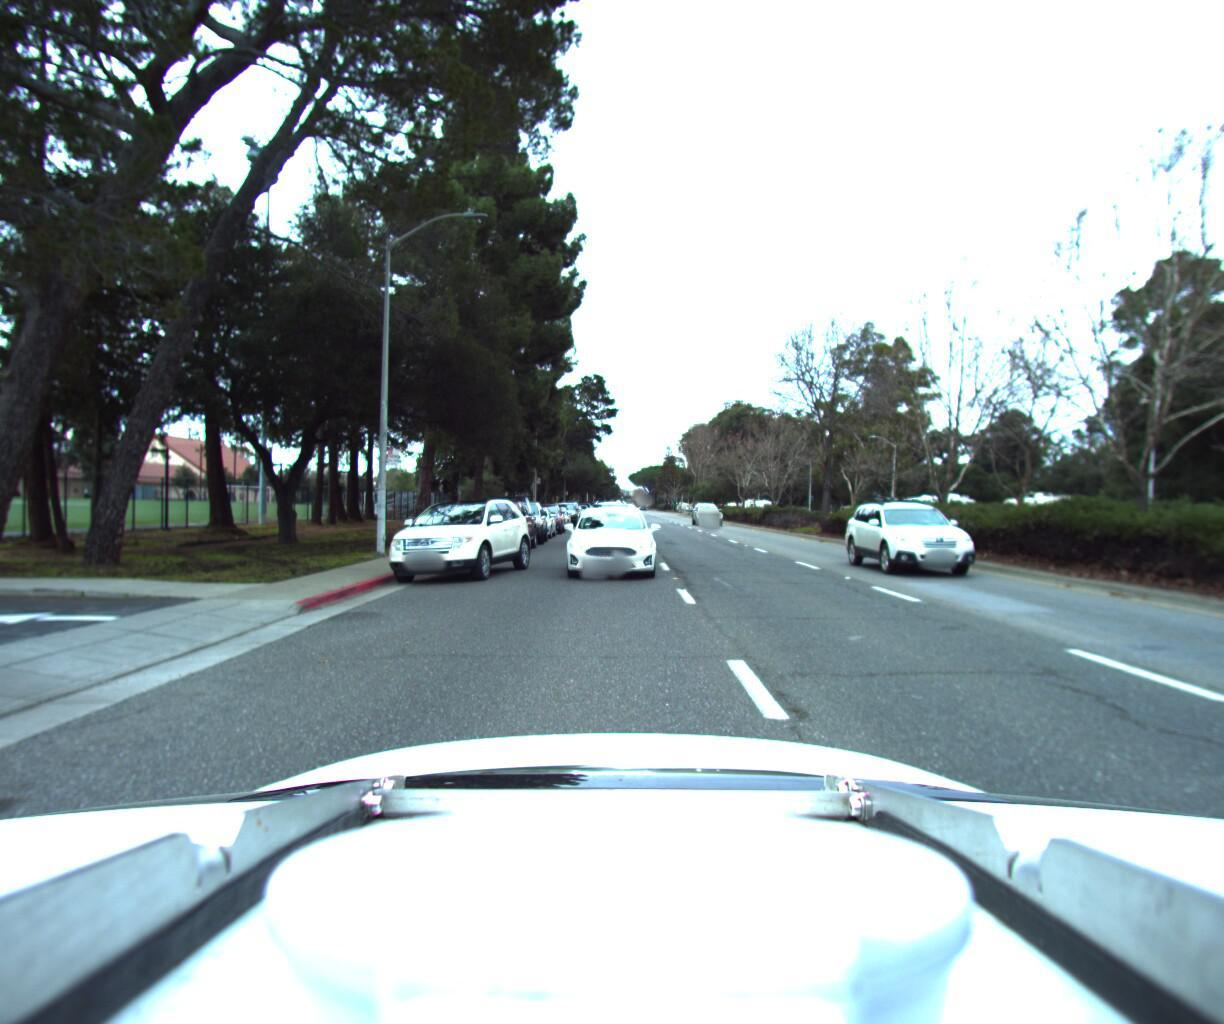car: (851, 484, 1009, 580), (369, 488, 536, 579), (561, 499, 655, 578), (457, 485, 540, 549), (491, 491, 547, 540), (509, 499, 556, 535), (523, 493, 563, 529), (689, 497, 722, 522)
other_vehicle: (990, 480, 1101, 541), (893, 484, 980, 532)
